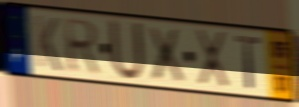K: (32, 13, 64, 75)
R: (62, 16, 102, 75)
T: (233, 34, 262, 92)
U: (107, 16, 148, 84)
X: (145, 25, 188, 84), (194, 27, 232, 92)
